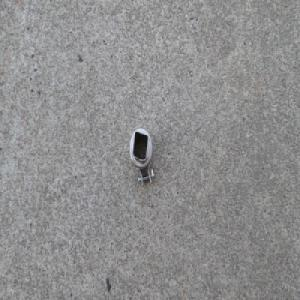MetalPart: (129, 126, 155, 190)
